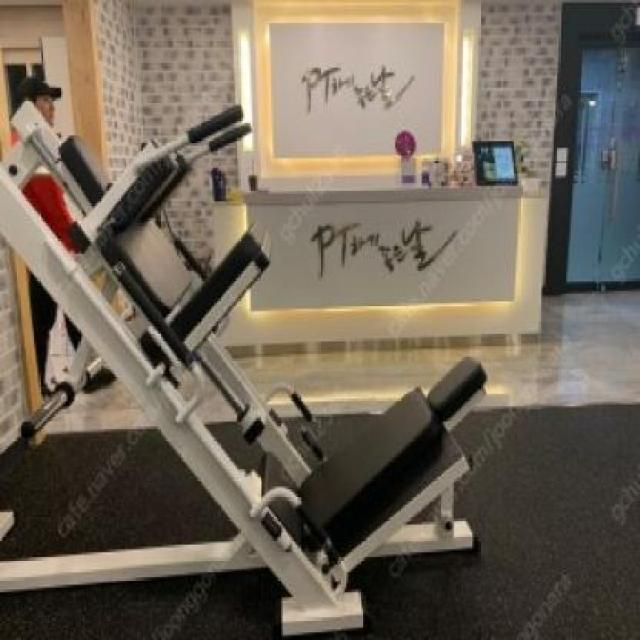leg press: (0, 60, 495, 640)
